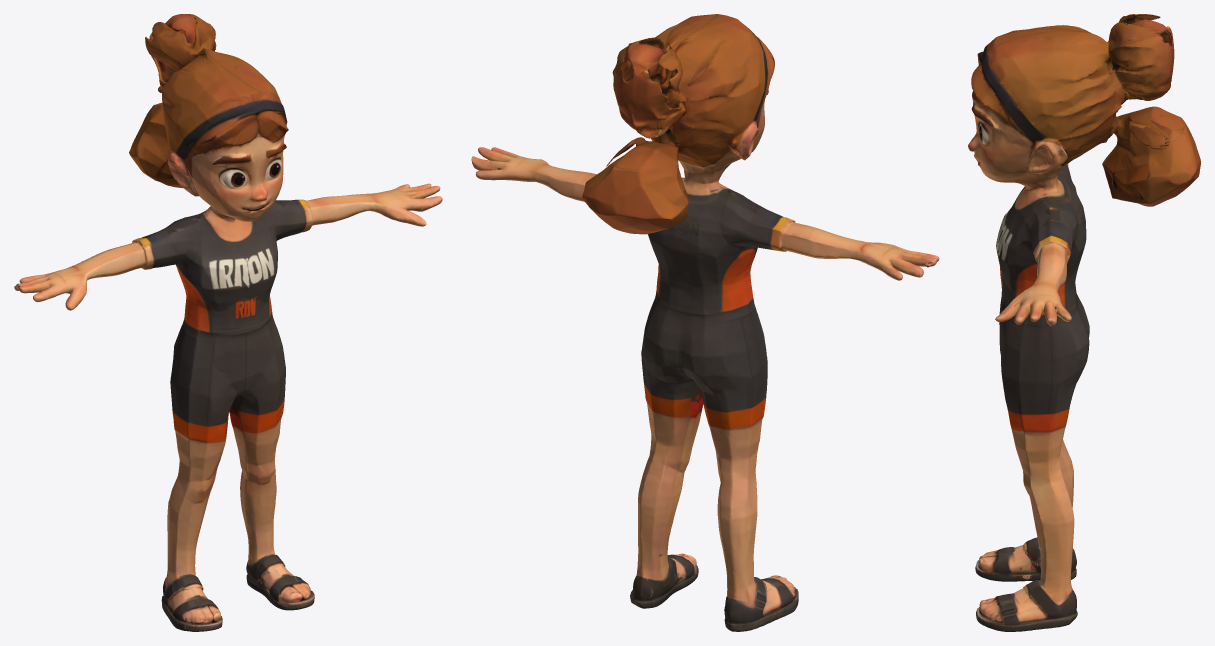
File: irongirl.glb
3 views of the same model, side by side, from view 1: azimuth 30°, elevation 25°; view 2: azimuth 150°, elevation 25°; view 3: azimuth 270°, elevation 25° (orthographic). The views are drawn at different scales.
Size of the model in its own units: 1.6 by 1.99 by 0.7251.
Materials: 1 (1 with a texture image).
